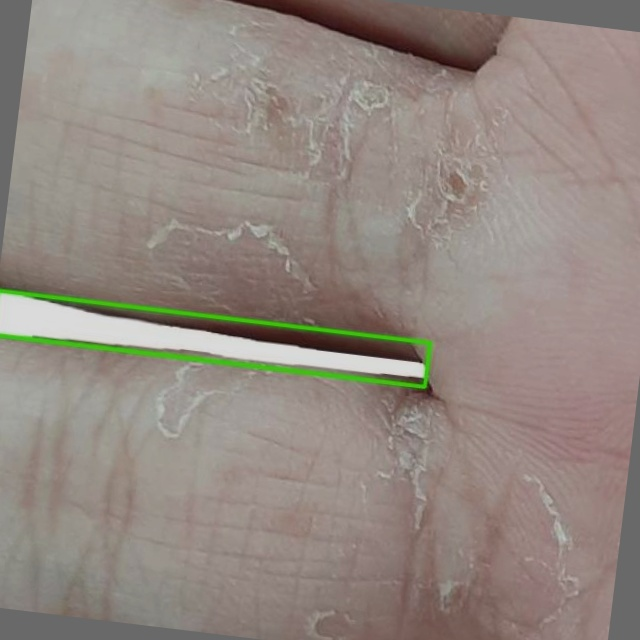Atopic Dermatitis: (0, 290, 430, 386)
